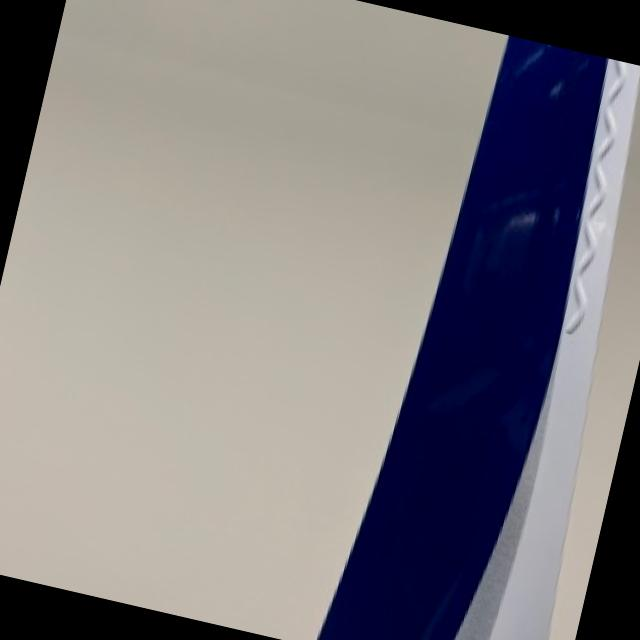healthy: (321, 36, 640, 640)
